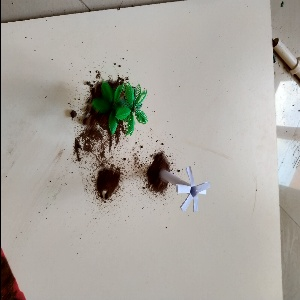plant: (85, 74, 145, 135)
weed: (148, 151, 210, 214)
